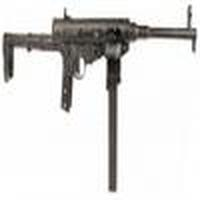gun: (3, 3, 194, 173)
